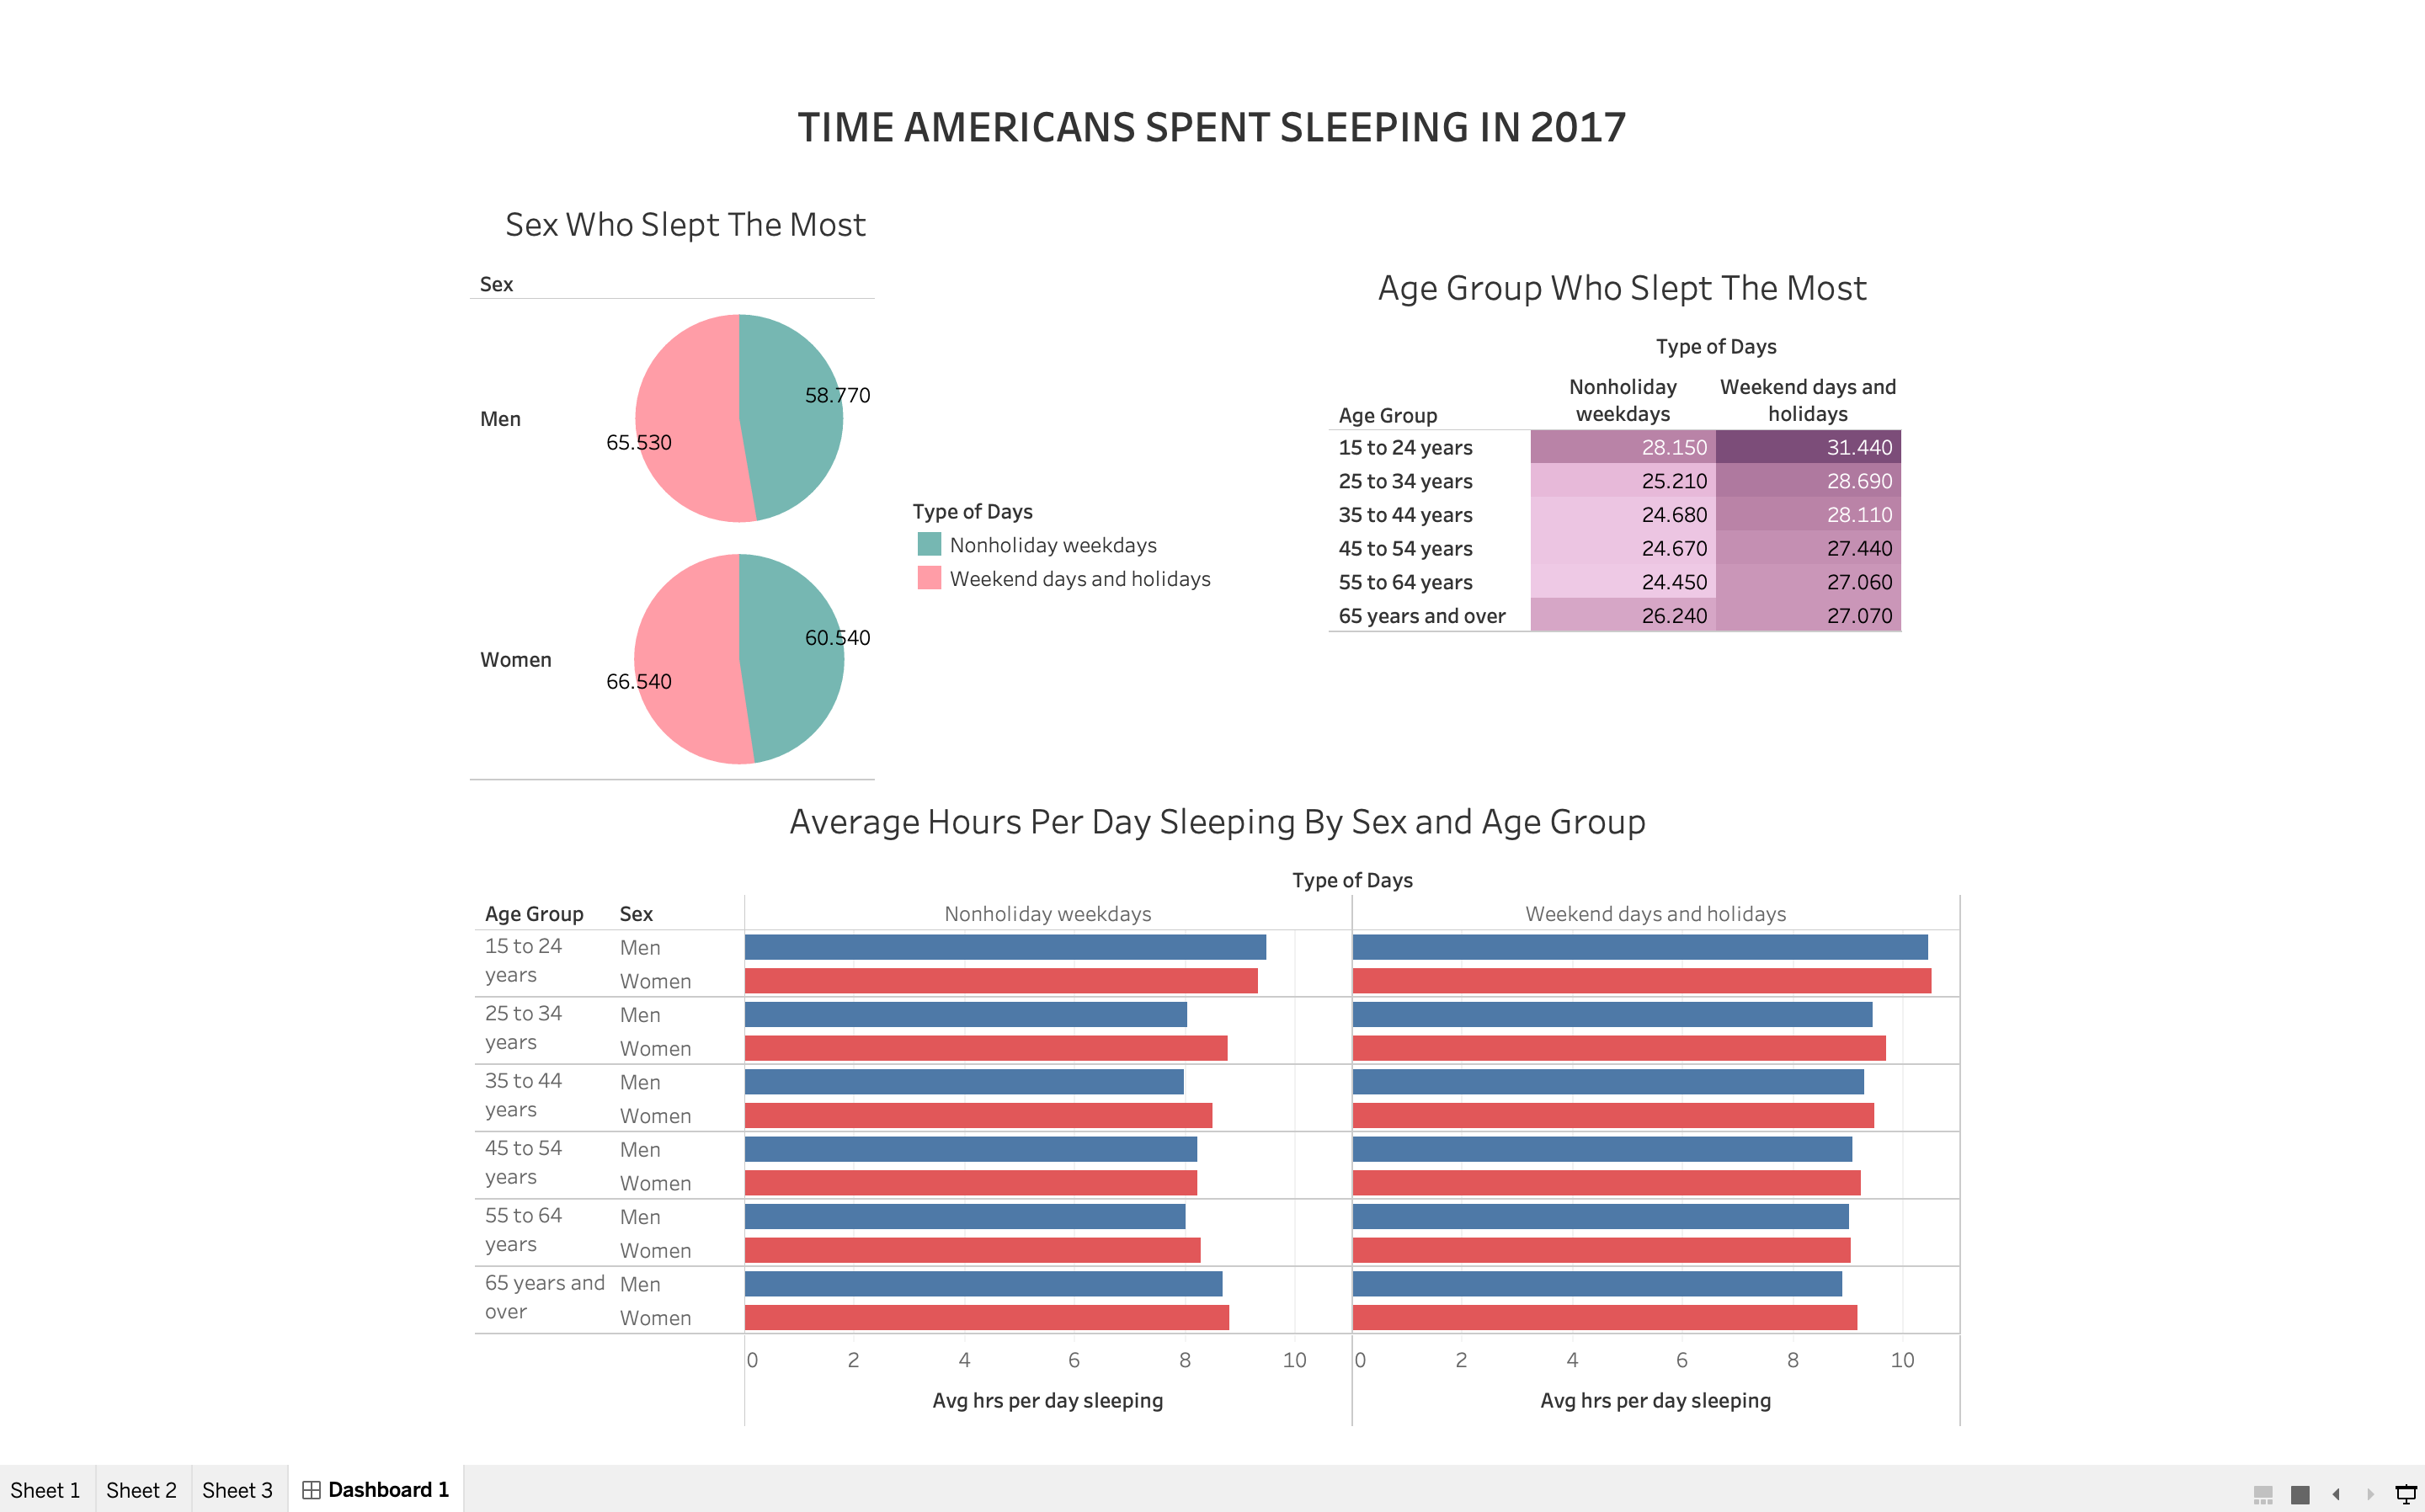

What the dashboard file says about the page in this screenshot:
{"tool":"tableau","page":{"name":"Dashboard 1","canvas":[1000,800],"ordinal":0},"visuals":[{"type":"worksheet","box":[0,0,1000,800]},{"type":"worksheet","param":"vert","box":[8,8,984,784]},{"type":"worksheet","box":[8,8,984,63]},{"type":"worksheet","box":[8,71,984,721]},{"type":"worksheet","title":"Sheet 2","mark":"Pie","rows":["Sex"],"box":[59,80,253,357]},{"type":"worksheet","title":"Sheet 2","mark":"Pie","rows":["Sex"],"param":"[federated.12g563h1x3o4sj12yg3u718v5sxs].[none:Type of Days:nk]","box":[322,260,182,58]}]}

Visuals, with their boxes on the page's 1000x800 design canvas (x1, y1, x2, y2). These are canvas units, not pixel positions in the 2425x1512 screenshot, which may show the page scaled, cropped or inside an application window:
worksheet: (0, 0, 1000, 800)
worksheet: (8, 8, 992, 792)
worksheet: (8, 8, 992, 71)
worksheet: (8, 71, 992, 792)
"Sheet 2" worksheet (Pie marks): (59, 80, 312, 437)
"Sheet 2" worksheet (Pie marks): (322, 260, 504, 318)
